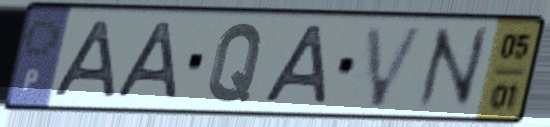A: (259, 22, 331, 109), (49, 17, 120, 102), (111, 19, 182, 103)
N: (412, 22, 492, 115)
Q: (204, 20, 268, 106)
V: (363, 22, 430, 111)
